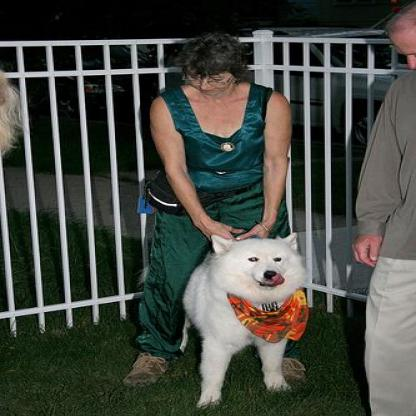Samoyed: (177, 230, 311, 412)
